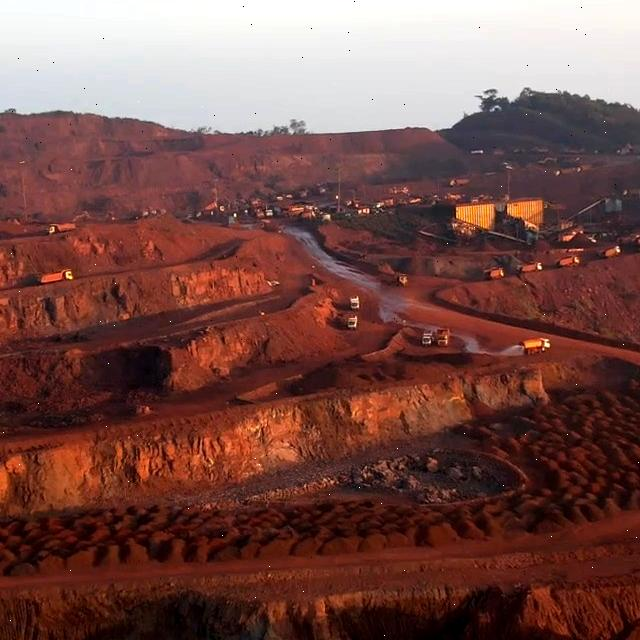Dumper truck: (42, 267, 75, 282), (380, 273, 408, 286), (555, 255, 581, 268), (47, 224, 73, 237), (515, 262, 543, 274), (485, 266, 505, 282), (601, 246, 621, 258)
car: (421, 329, 433, 347), (346, 315, 358, 330), (349, 296, 360, 310)
